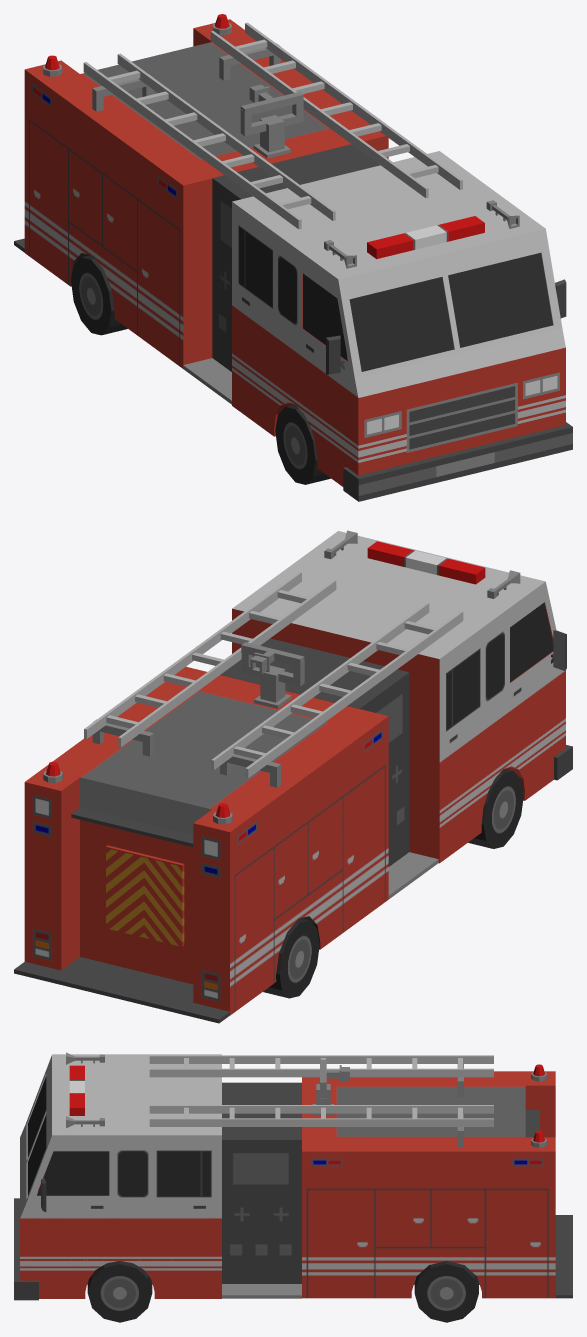
Rendered from fire-truck.glb.
3 views of the same model, one above another, from view 1: azimuth 30°, elevation 25°; view 2: azimuth 150°, elevation 25°; view 3: azimuth 270°, elevation 25° (orthographic). The views are drawn at different scales.
Parts seen in each view (by area): view 1: Body, RR, FR; view 2: Body, RR, FR; view 3: Body, FL, RL.
Boxes of the visible parts, x1=… form: Body: x1=14, y1=14, x2=572, y2=501; RR: x1=71, y1=255, x2=127, y2=335; FR: x1=275, y1=404, x2=330, y2=484; Body: x1=14, y1=530, x2=572, y2=1023; RR: x1=263, y1=918, x2=319, y2=998; FR: x1=468, y1=769, x2=523, y2=848; Body: x1=14, y1=1052, x2=572, y2=1300; FL: x1=87, y1=1261, x2=152, y2=1322; RL: x1=414, y1=1261, x2=478, y2=1322.
Size of the model in its own units: 3.63 by 3.88 by 9.18.
1 material, 1 textured.
